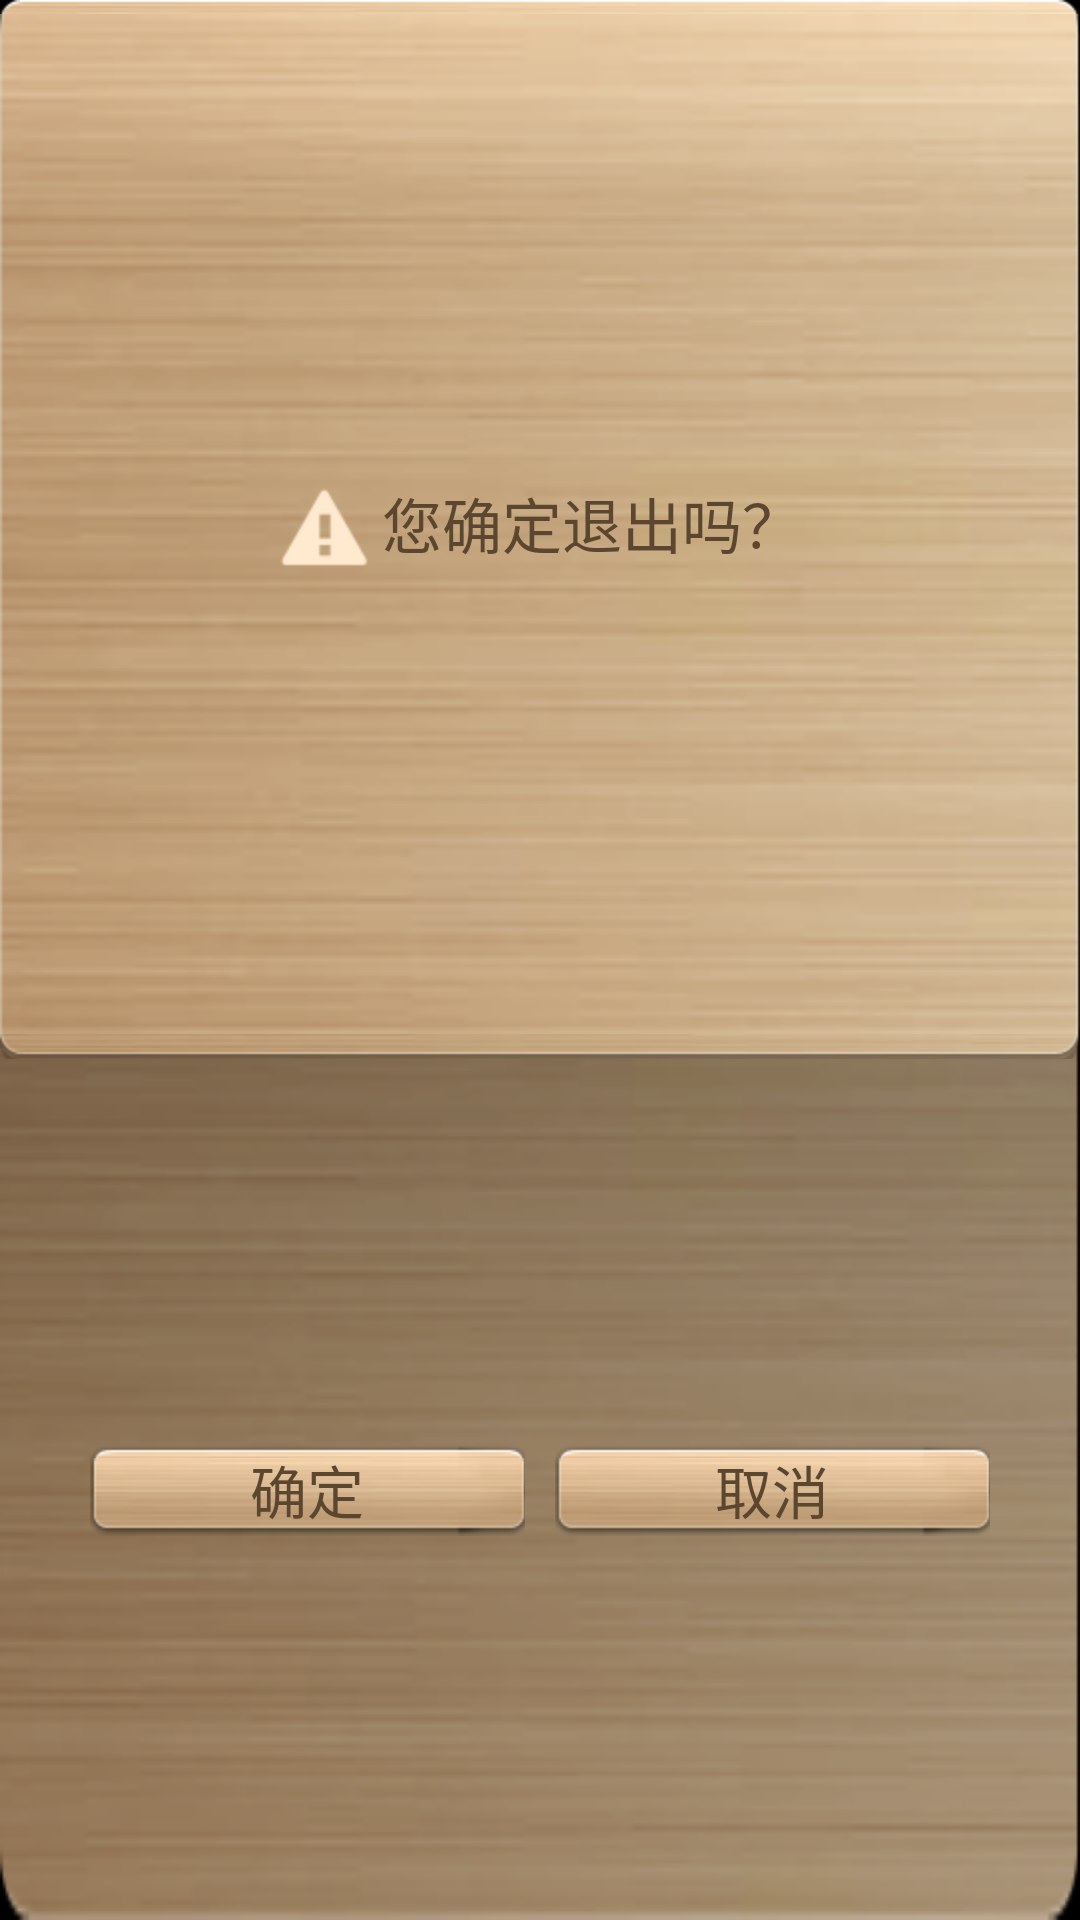

Screen size 1080×1920. Icon name, then its box in pixels as (x1, y1, x2, y2):
warning: (282, 489, 367, 566)
